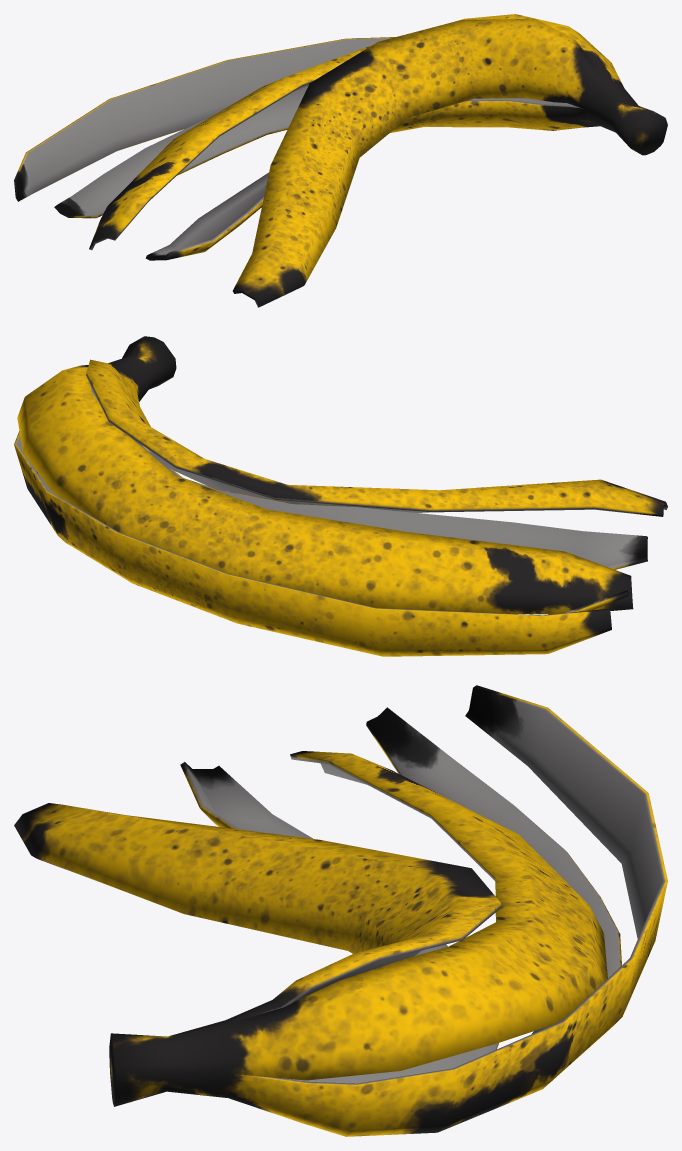
File: banana.fbx
The picture shows the model from 3 angles, top to bottom: view 1: azimuth 30°, elevation 25°; view 2: azimuth 150°, elevation 25°; view 3: azimuth 270°, elevation 25°; orthographic projection. The views are drawn at different scales.
Visible parts, largest first — view 1: banana; view 2: banana; view 3: banana.
Boxes of the visible parts, x1,y1,x2,y2 form: banana: (14,14,667,307); banana: (14,336,667,656); banana: (14,685,667,1136).
Bounding box in the file's own units: 47.66 × 72.09 × 14.05.
Materials: 1 (1 with a texture image).
